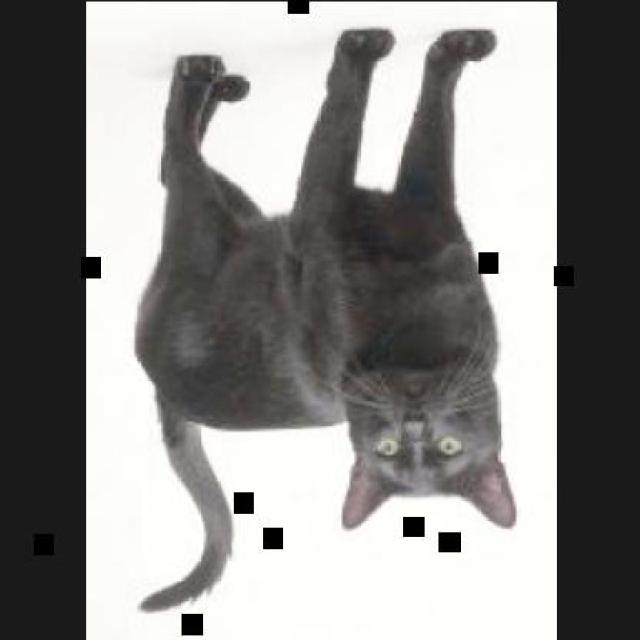unauthorized: (132, 26, 396, 612), (332, 26, 517, 531)
